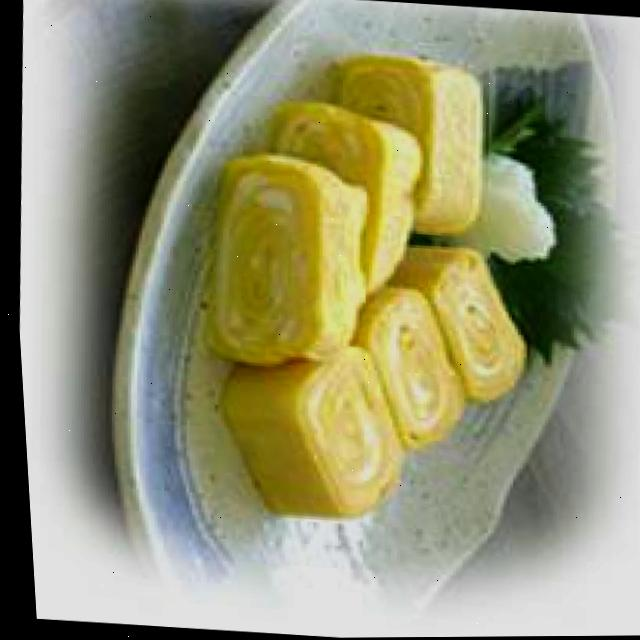鸡蛋料理: (165, 32, 556, 533)
